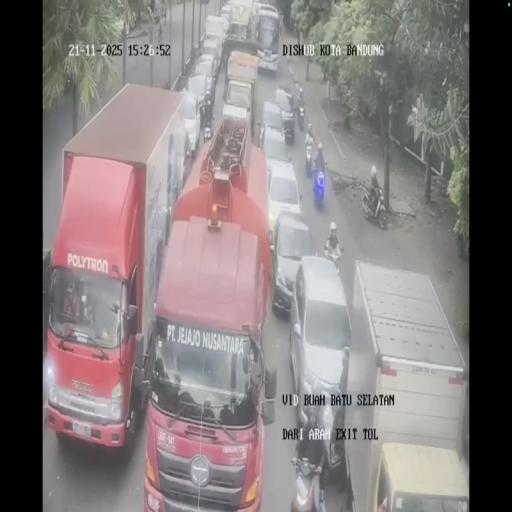3: (44, 83, 191, 453), (340, 262, 467, 511), (223, 50, 258, 133), (203, 14, 227, 66)
car: (271, 209, 314, 317), (259, 100, 287, 152), (191, 56, 217, 106), (220, 3, 232, 33)
truck: (363, 182, 389, 228), (312, 158, 326, 205), (304, 140, 313, 176)
